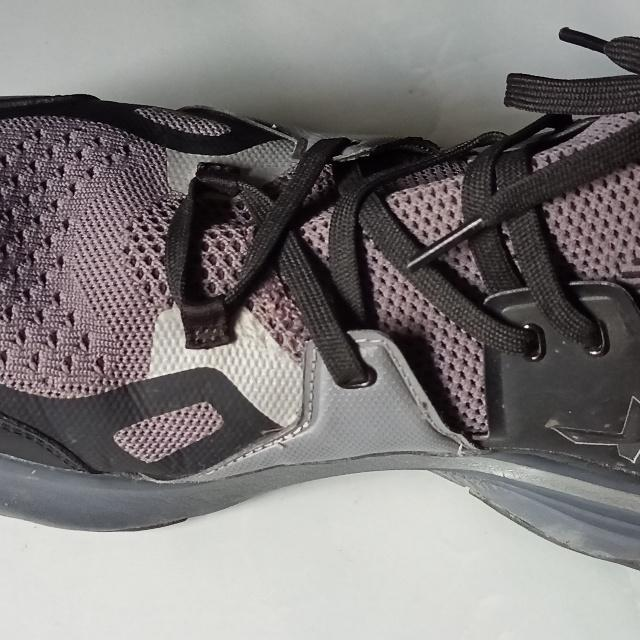broken-error: (406, 393, 436, 426)
